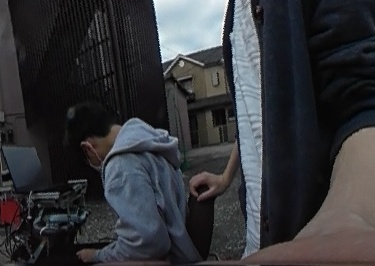person: (66, 93, 194, 266)
